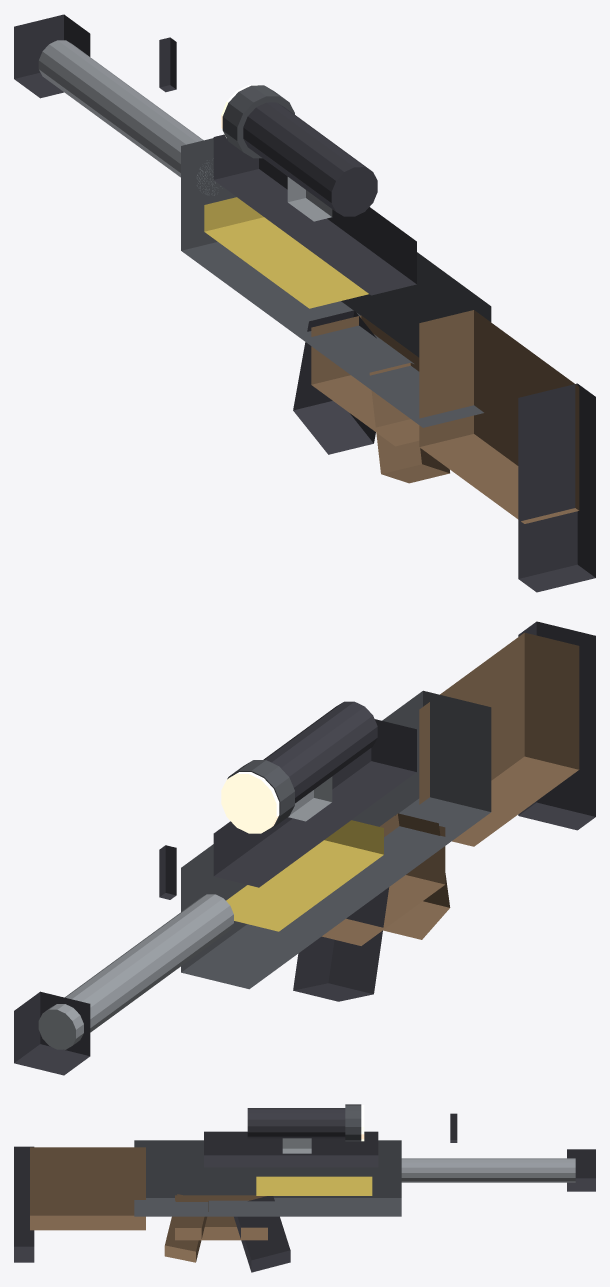
Rendered from rifle.glb.
3 renders of one model, top to bottom at view 1: azimuth 30°, elevation 25°; view 2: azimuth 150°, elevation 25°; view 3: azimuth 270°, elevation 25°, orthographic. The views are drawn at different scales.
Parts seen in each view (by area): view 1: receiver, stock, barrel, scope; view 2: receiver, stock, barrel, scope, scope-glass; view 3: receiver, stock, barrel, scope.
Part boxes in pixels (box(x1,y1,x2,y2)): receiver: box(181, 134, 491, 446); stock: box(293, 310, 595, 592); barrel: box(14, 14, 220, 195); scope: box(222, 85, 377, 221); receiver: box(181, 690, 491, 989); stock: box(293, 621, 595, 1001); barrel: box(14, 845, 233, 1075); scope: box(227, 701, 377, 832); scope-glass: box(221, 772, 279, 833); receiver: box(134, 1131, 401, 1240); stock: box(14, 1146, 290, 1272); barrel: box(401, 1113, 595, 1191); scope: box(247, 1104, 361, 1153).
Bounding box in the file's own units: 0.082 × 0.305 × 1.
